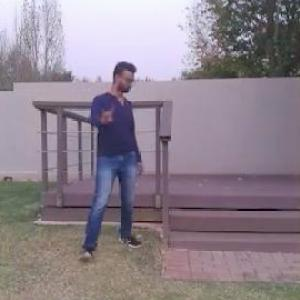takeoff-hand: (91, 98, 117, 126)
